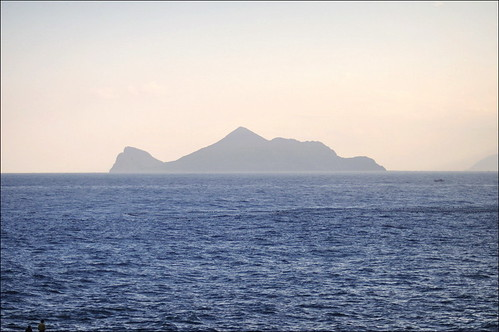turtleIslandLeft: (104, 127, 397, 175)
